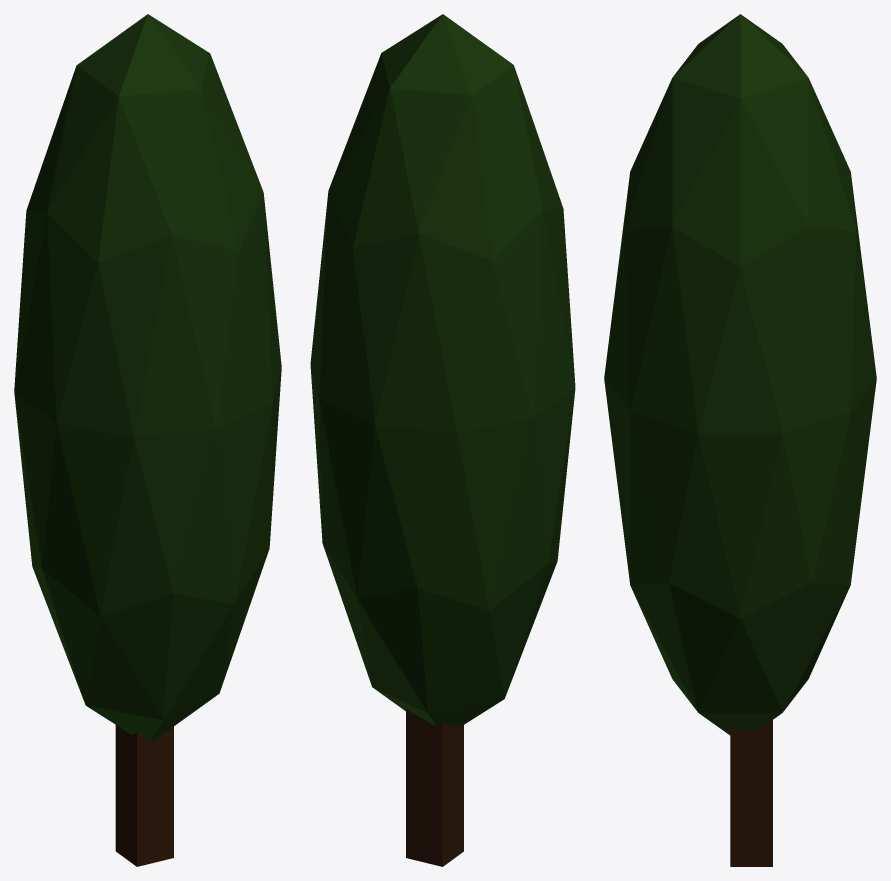
Rendered from OakTree2.fbx.
3 views of the same model, side by side, from view 1: azimuth 30°, elevation 25°; view 2: azimuth 150°, elevation 25°; view 3: azimuth 270°, elevation 25° (orthographic).
Visible parts, largest first — view 1: Cube.058; view 2: Cube.058; view 3: Cube.058.
Boxes of the visible parts, left/top/right/bottom form: Cube.058: left=14, top=14, right=281, bottom=866; Cube.058: left=310, top=14, right=575, bottom=866; Cube.058: left=604, top=14, right=876, bottom=866.
Bounding box in the file's own units: 27.16 × 97.39 × 28.56.
